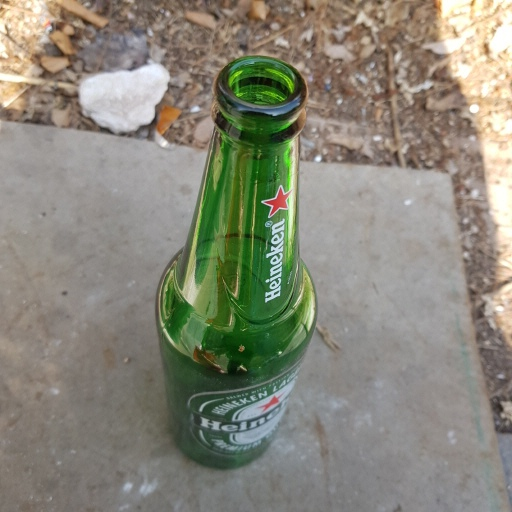Glass_1: (149, 53, 323, 470)
